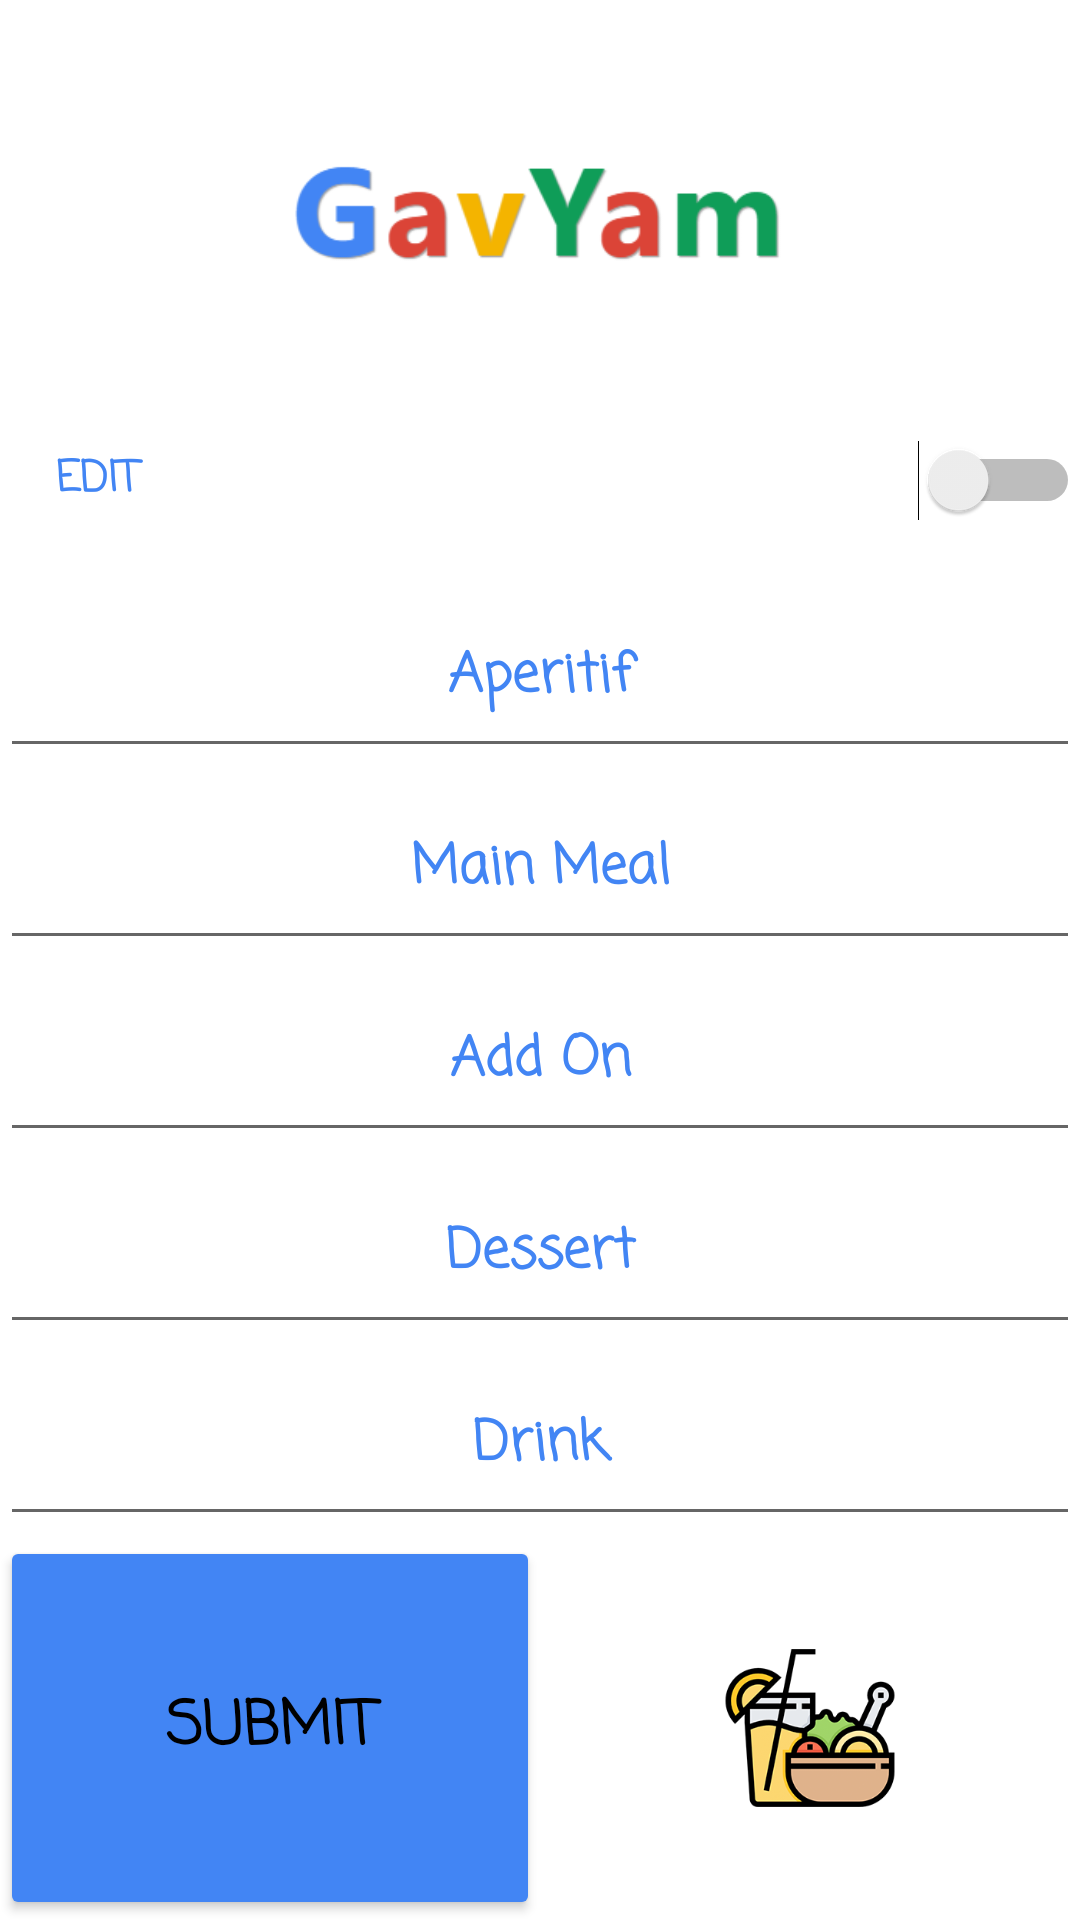

Screen size 1080px×1920px. Icon name, then its box in pixels as (x1, y1, x2, y2):
meal: (725, 1649, 895, 1807)
